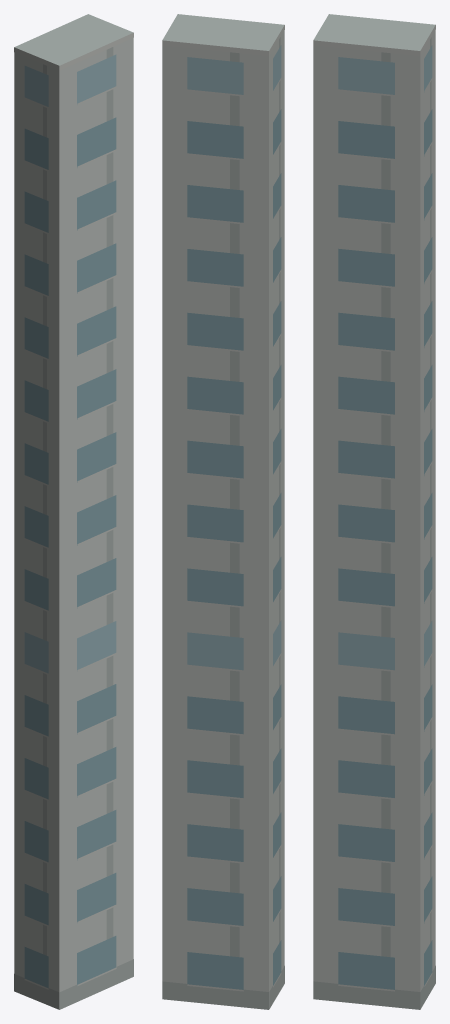
File: survey-upis-32632154.glb
3 views of the same model, side by side, from view 1: azimuth 30°, elevation 25°; view 2: azimuth 150°, elevation 25°; view 3: azimuth 330°, elevation 25° (orthographic).
Visible parts, largest first — view 1: survey-upis-32632154.tmp; view 2: survey-upis-32632154.tmp; view 3: survey-upis-32632154.tmp.
Part boxes in pixels (x1=…): survey-upis-32632154.tmp: x1=14, y1=14, x2=133, y2=1009; survey-upis-32632154.tmp: x1=162, y1=14, x2=284, y2=1009; survey-upis-32632154.tmp: x1=313, y1=14, x2=435, y2=1009.
Bounding box in the file's own units: 5.32 × 45.75 × 4.04.
